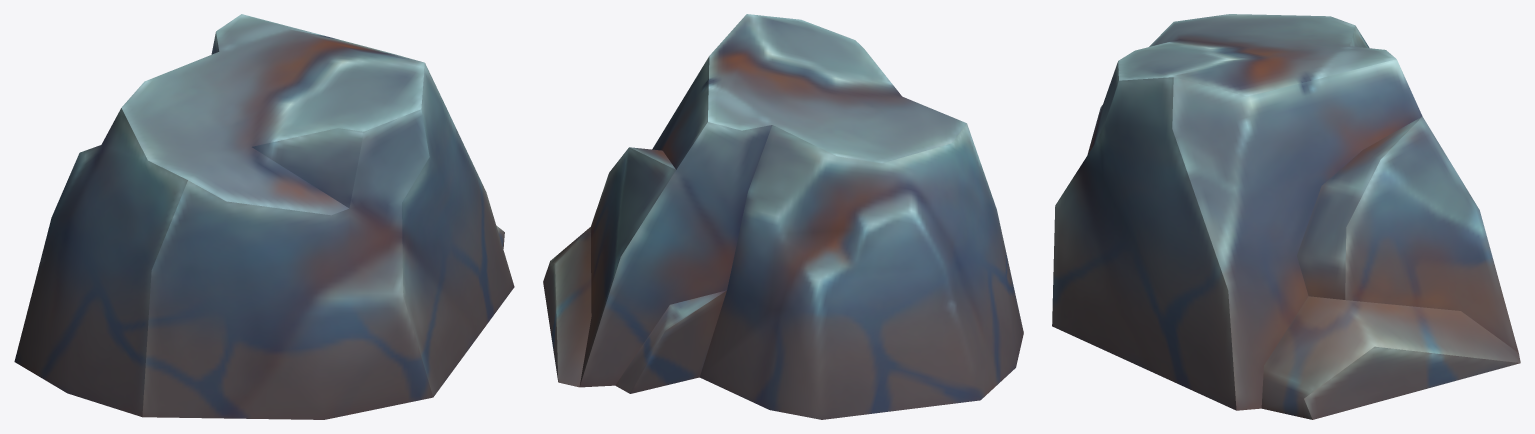
The model's file is field_rocks_iron_06.fbx.
3 renders of one model, left to right at view 1: azimuth 30°, elevation 25°; view 2: azimuth 150°, elevation 25°; view 3: azimuth 270°, elevation 25°, orthographic. The views are drawn at different scales.
Visible parts, largest first — view 1: field_rocks_iron_06; view 2: field_rocks_iron_06; view 3: field_rocks_iron_06.
Boxes of the visible parts, x1,y1,x2,y2 form: field_rocks_iron_06: [14, 14, 514, 419]; field_rocks_iron_06: [543, 14, 1023, 419]; field_rocks_iron_06: [1052, 14, 1520, 419].
Bounding box in the file's own units: 105 × 58.39 × 89.97.
